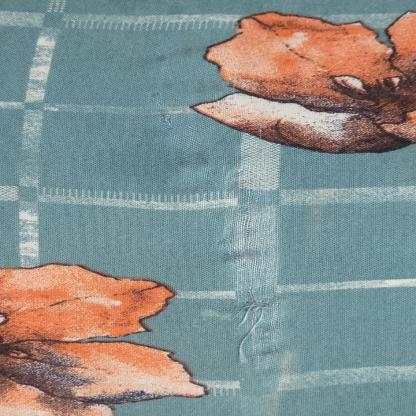spot: (188, 304, 237, 326)
